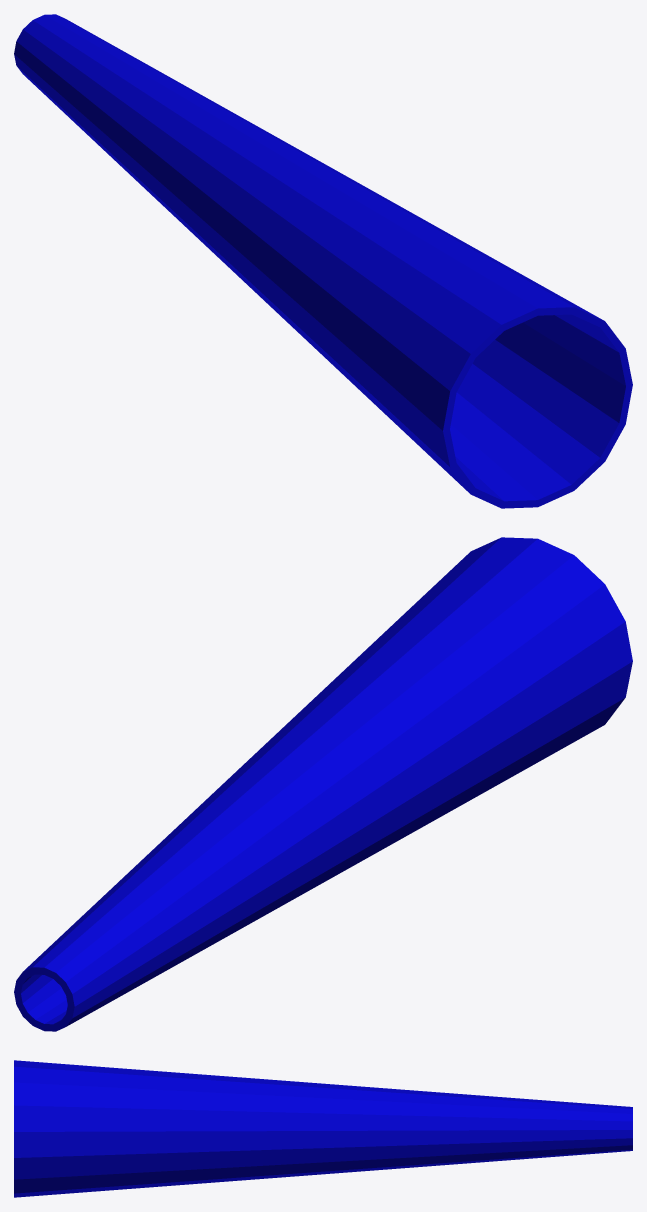
Rendered from NozzleWCludding_right.gltf.
3 views of the same model, one above another, from view 1: azimuth 30°, elevation 25°; view 2: azimuth 150°, elevation 25°; view 3: azimuth 270°, elevation 25° (orthographic). The views are drawn at different scales.
Visible parts, largest first — view 1: NozzleWCludding_right; view 2: NozzleWCludding_right; view 3: NozzleWCludding_right.
Part boxes in pixels (x1=…): NozzleWCludding_right: x1=14, y1=14, x2=632, y2=508; NozzleWCludding_right: x1=14, y1=537, x2=632, y2=1031; NozzleWCludding_right: x1=14, y1=1060, x2=632, y2=1197.
Size of the model in its own units: 1100 by 1100 by 4950.
